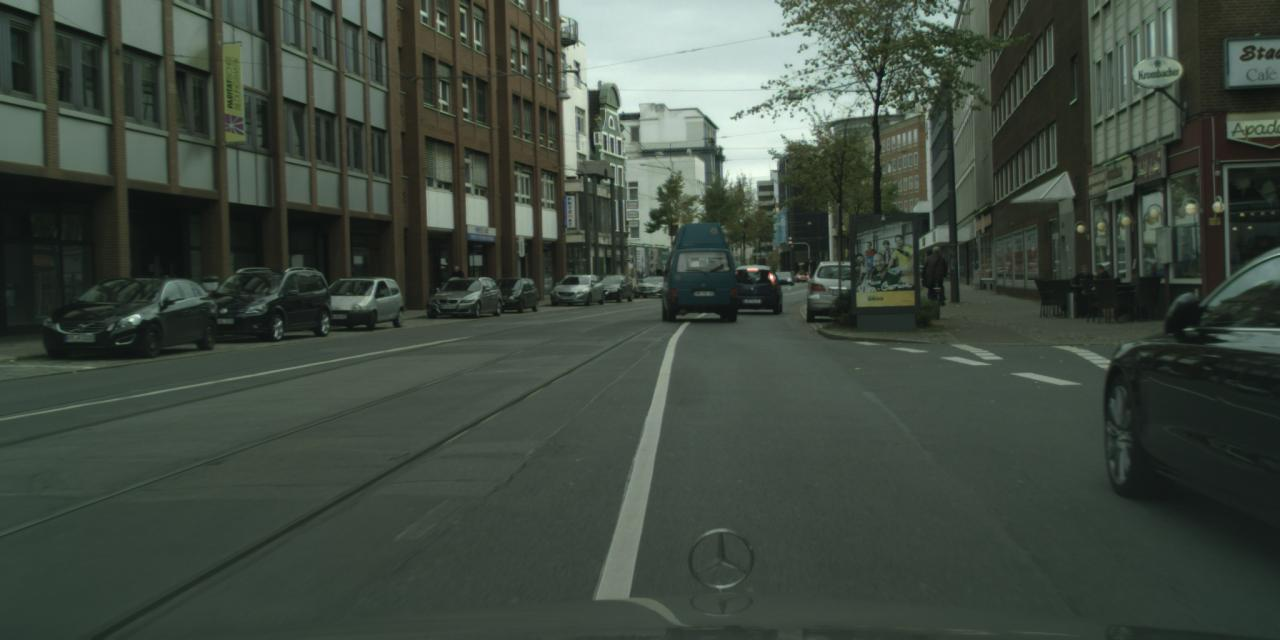ped: (925, 247, 947, 301), (448, 265, 466, 306)
